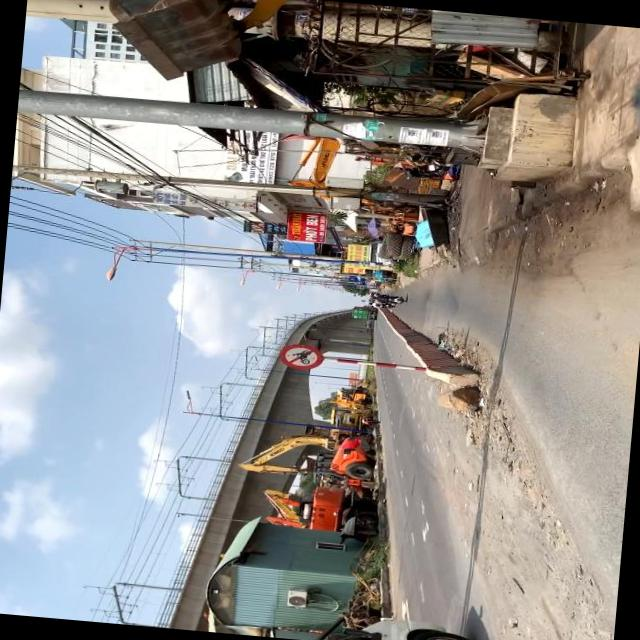P-104: (276, 340, 324, 370)
